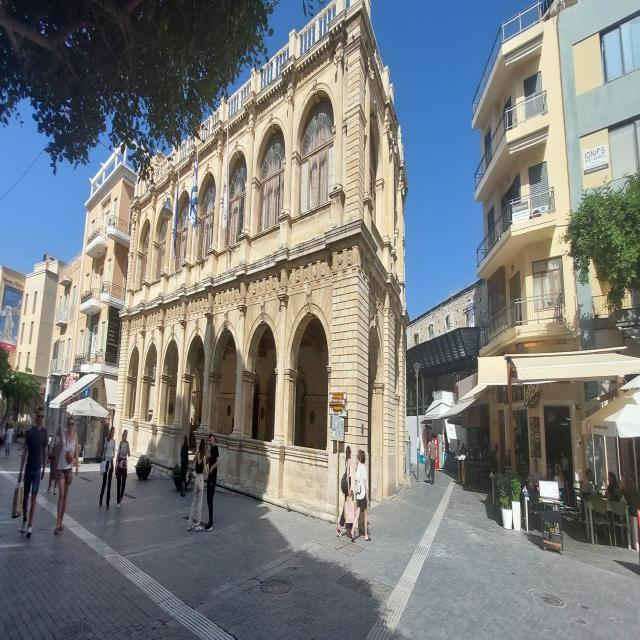Loggia: (110, 1, 413, 524)
